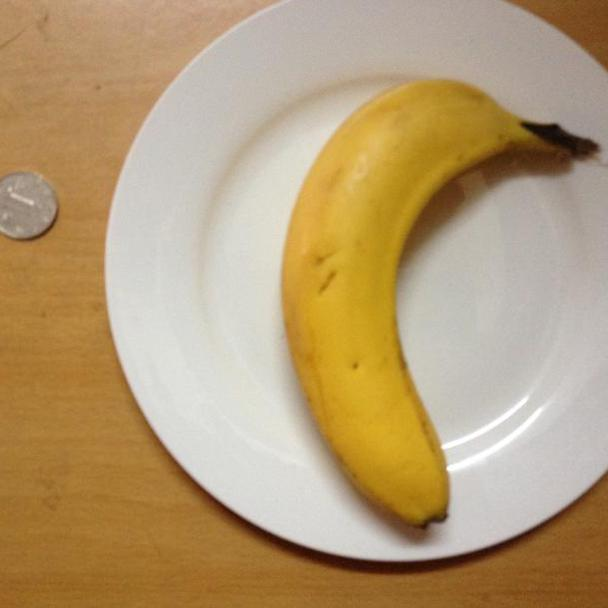banana: (292, 79, 522, 527)
